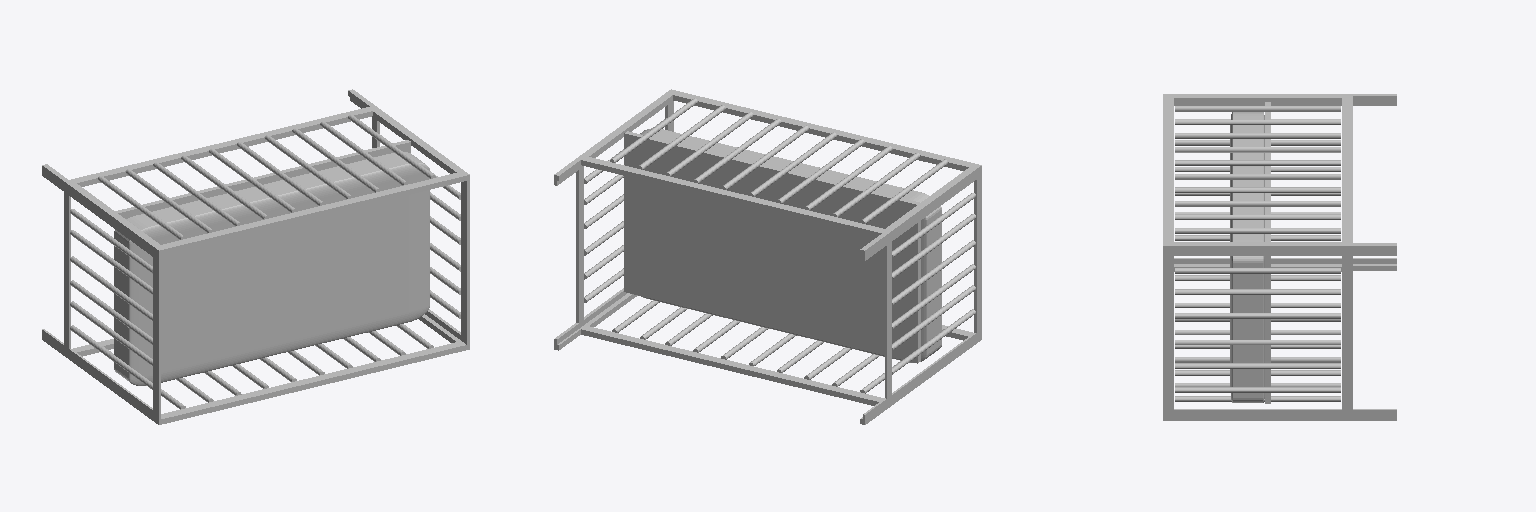
The model's file is Sniglar.obj.
3 views of the same model, side by side, from view 1: azimuth 30°, elevation 25°; view 2: azimuth 150°, elevation 25°; view 3: azimuth 270°, elevation 25° (orthographic).
Parts seen in each view (by area): view 1: obj_0; view 2: obj_0; view 3: obj_0.
Part boxes in pixels (bbox=[...]): obj_0: bbox=[42, 89, 469, 424]; obj_0: bbox=[554, 89, 981, 424]; obj_0: bbox=[1163, 94, 1396, 420].
Bounding box in the file's own units: 123 × 67 × 80.